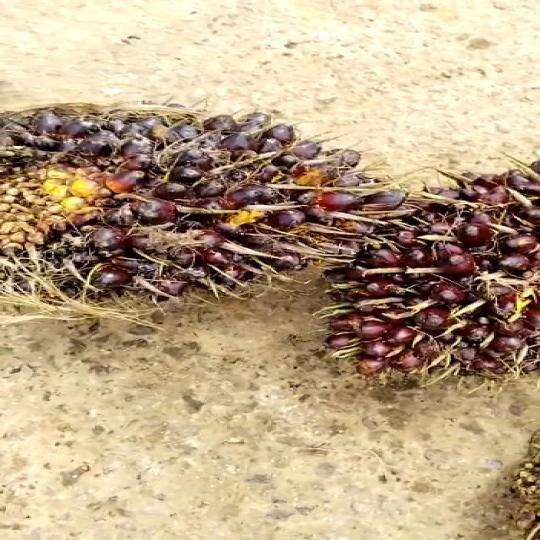kurang masak: (0, 97, 391, 320), (332, 129, 540, 405)
